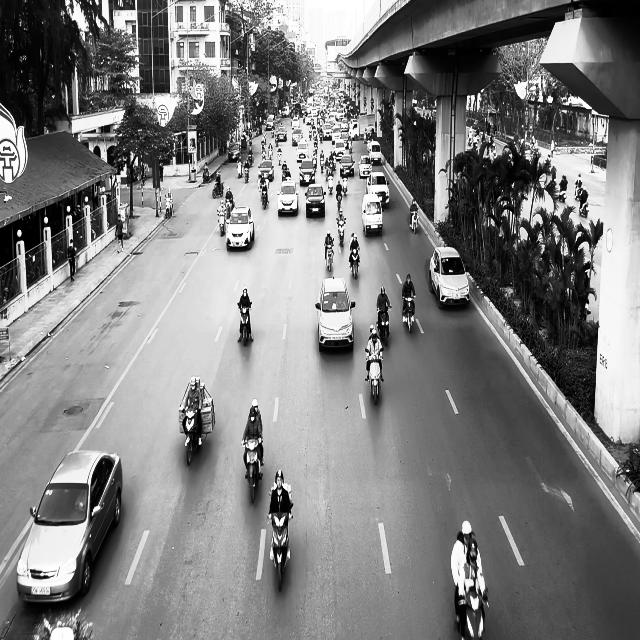car: (17, 449, 122, 605), (316, 276, 356, 351), (429, 245, 470, 308), (226, 205, 255, 251), (362, 193, 383, 237), (366, 172, 390, 208), (277, 180, 299, 216), (304, 183, 326, 218), (258, 159, 274, 181), (228, 142, 241, 161)
motorbike: (242, 437, 264, 503), (364, 348, 384, 405), (183, 406, 202, 465), (237, 302, 253, 346), (377, 305, 391, 346), (402, 294, 416, 333), (349, 248, 360, 278), (324, 240, 334, 272), (336, 217, 346, 246), (409, 210, 419, 233), (260, 184, 269, 209), (578, 195, 588, 217), (218, 212, 225, 236), (558, 184, 566, 202)
